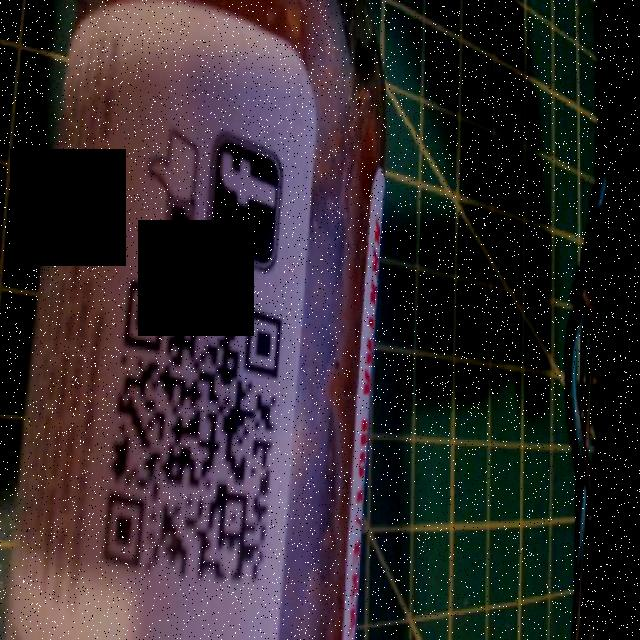QR_CODE: (95, 256, 290, 612)
